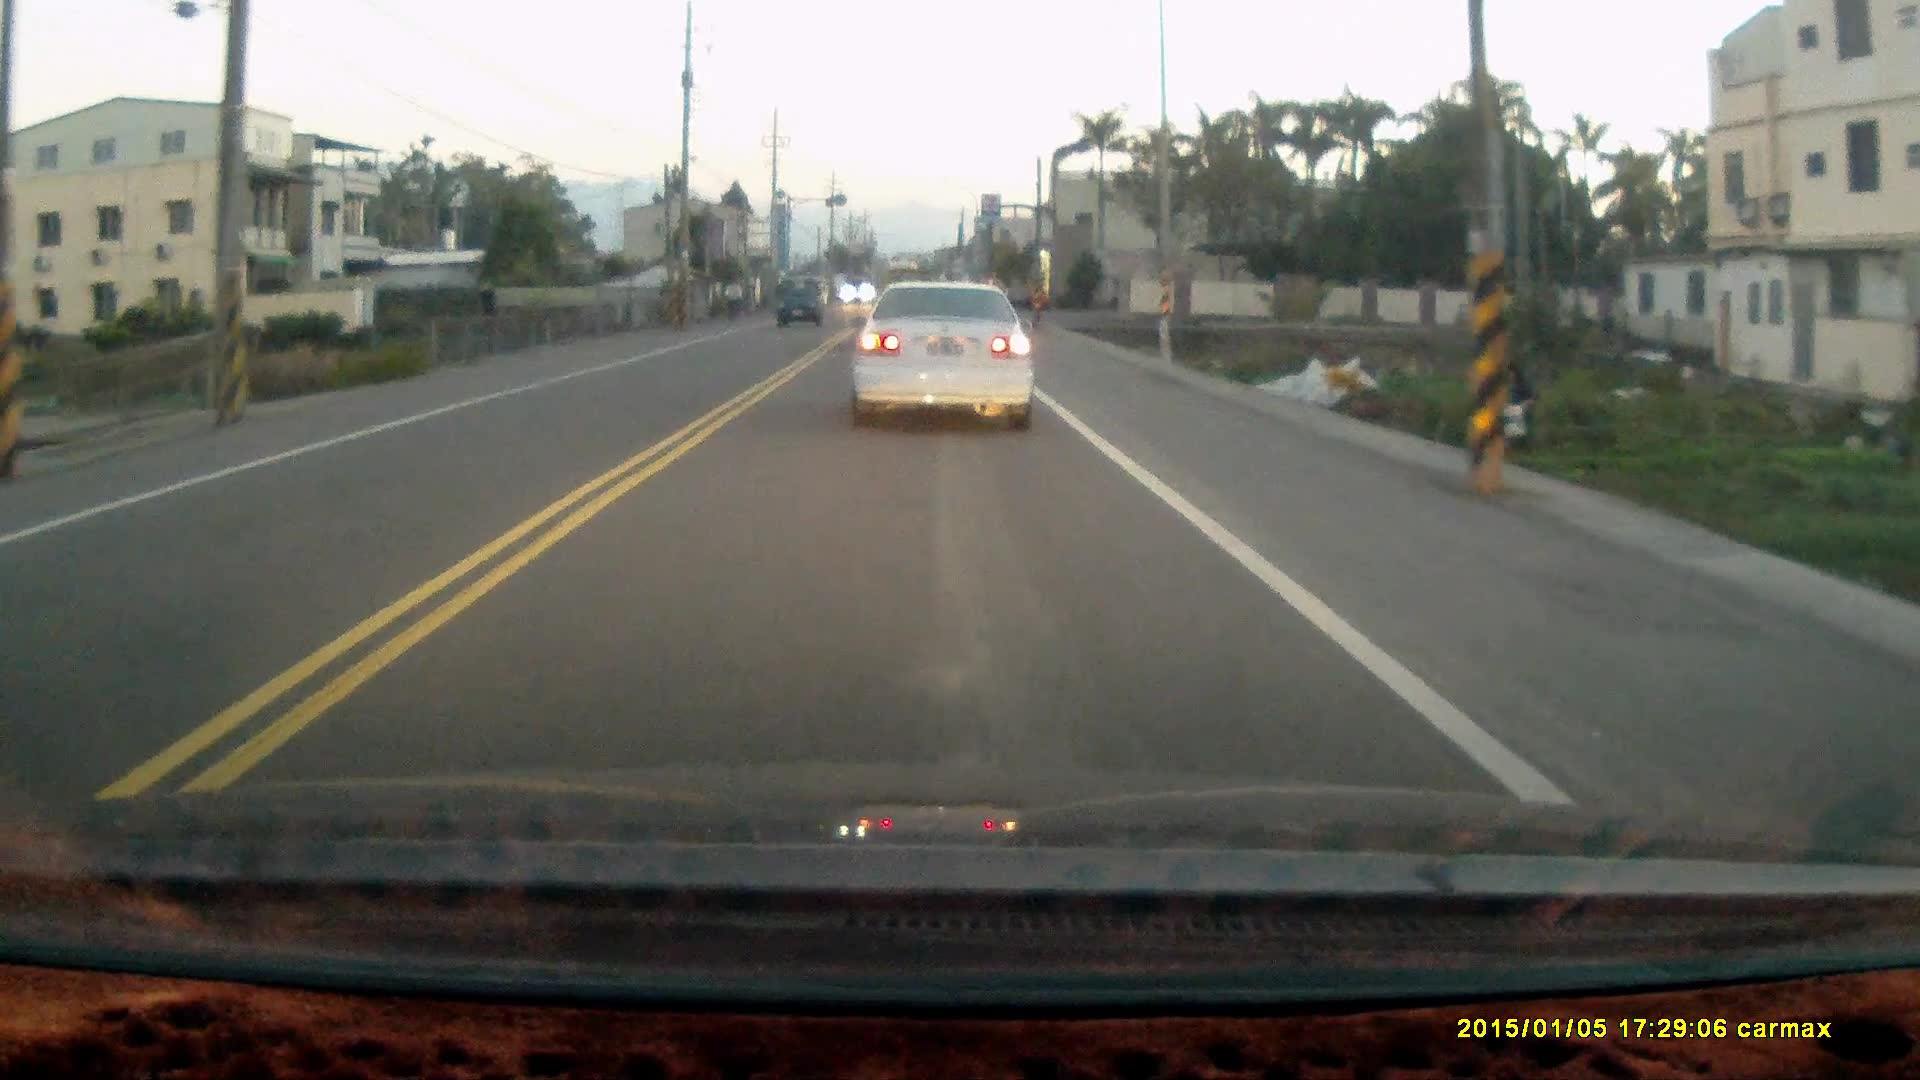pedestrian: (1502, 361, 1537, 458)
rider: (721, 271, 742, 322)
vehicle: (853, 290, 1043, 431), (777, 278, 829, 332)
